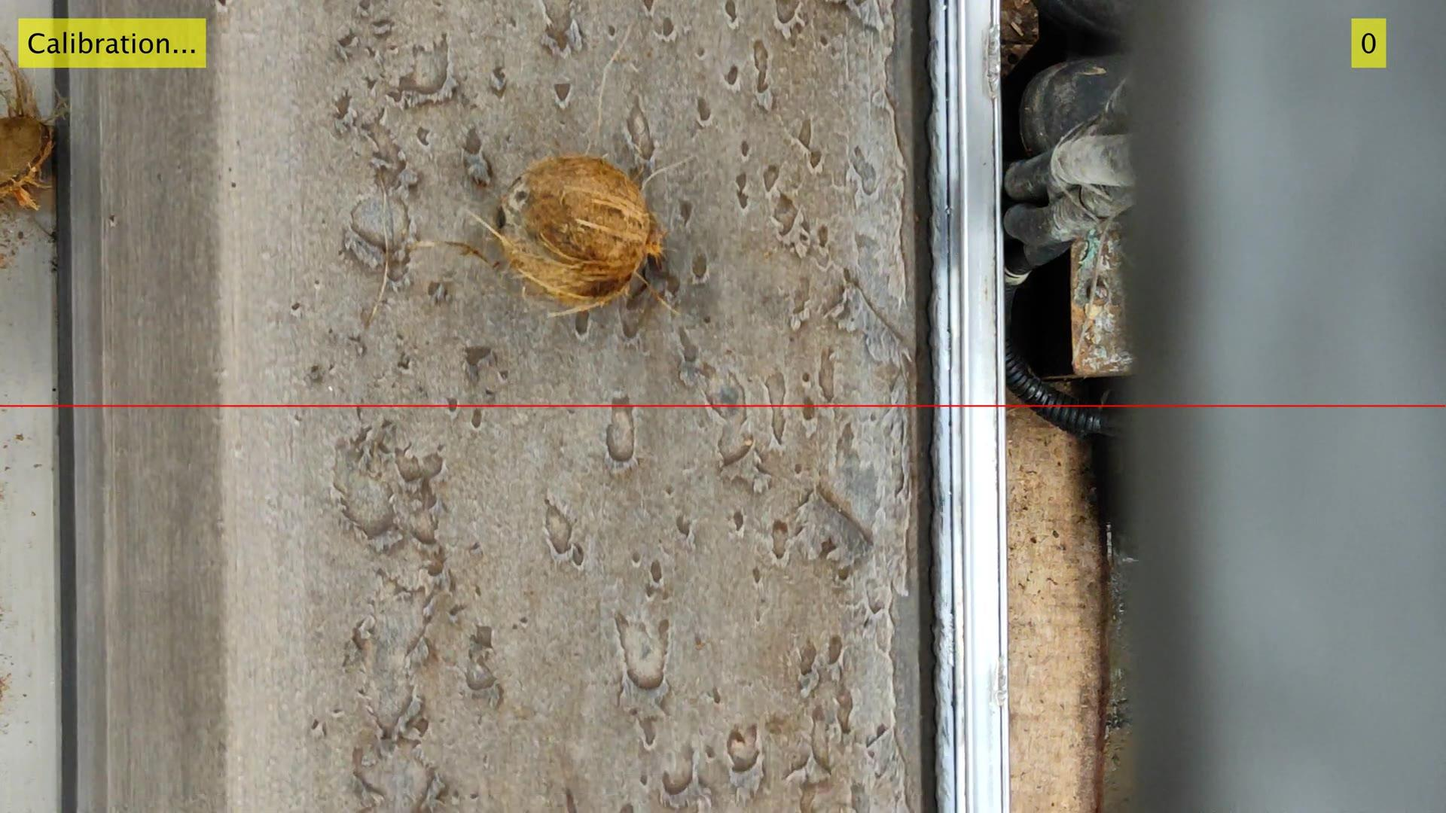Coconut: (471, 149, 691, 316), (0, 47, 54, 210)
